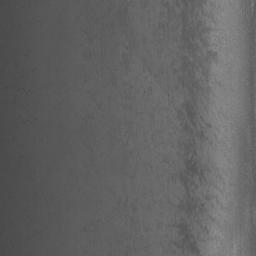Silk spot: (175, 56, 218, 218), (179, 11, 212, 53), (168, 218, 202, 256), (176, 0, 206, 19), (202, 50, 217, 64), (162, 0, 174, 16), (118, 7, 128, 26), (202, 194, 218, 203), (200, 225, 209, 235)
